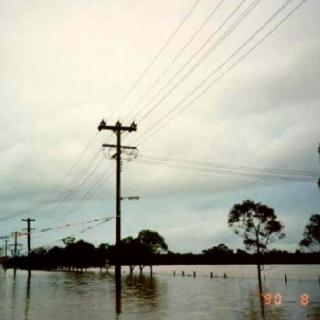Stratus: (0, 0, 320, 199)
